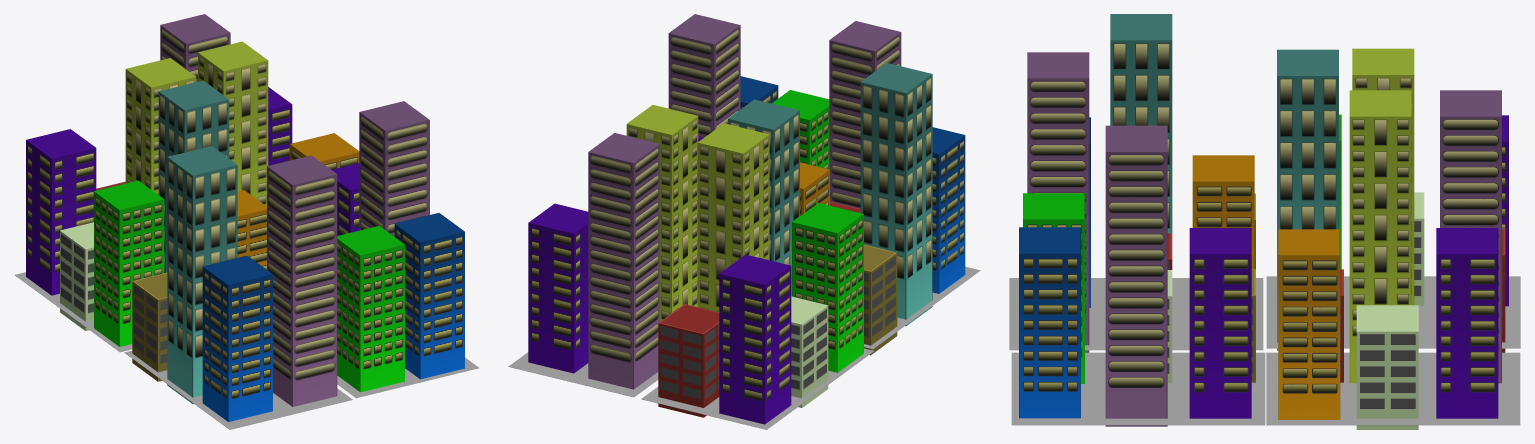
File: predio1.fbx
The picture shows the model from 3 angles, left to right: view 1: azimuth 30°, elevation 25°; view 2: azimuth 150°, elevation 25°; view 3: azimuth 270°, elevation 25°; orthographic projection. The views are drawn at different scales.
Visible parts, largest first — view 1: polySurface44, polySurface28, polySurface35, polySurface31, polySurface30, polySurface37, polySurface36, polySurface51, polySurface49, polySurface46, polySurface47, polySurface53 (+9 smaller); view 2: polySurface48, polySurface28, polySurface36, polySurface47, polySurface33, polySurface37, polySurface49, polySurface44, polySurface51, polySurface54, polySurface46, polySurface35 (+8 smaller); view 3: polySurface51, polySurface49, polySurface32, polySurface7, polySurface33, polySurface30, polySurface46, polySurface44, polySurface48, polySurface28, polySurface50, polySurface8 (+10 smaller).
Boxes of the visible parts, box(x1,y1,x2,y2) form: polySurface44: box(267, 155, 337, 406); polySurface28: box(167, 146, 237, 404); polySurface35: box(202, 255, 272, 421); polySurface31: box(337, 226, 404, 392); polySurface30: box(394, 213, 464, 379); polySurface37: box(94, 180, 164, 346); polySurface36: box(26, 129, 96, 295); polySurface51: box(359, 101, 429, 236); polySurface49: box(198, 41, 268, 206); polySurface46: box(158, 80, 229, 272); polySurface47: box(125, 58, 196, 194); polySurface53: box(132, 272, 167, 381); polySurface48: box(588, 133, 659, 389); polySurface28: box(860, 63, 932, 326); polySurface36: box(719, 254, 791, 424); polySurface47: box(697, 123, 769, 312); polySurface33: box(528, 203, 588, 373); polySurface37: box(792, 203, 863, 372); polySurface49: box(626, 105, 698, 321); polySurface44: box(829, 21, 901, 208); polySurface51: box(668, 14, 740, 137); polySurface54: box(658, 304, 719, 417); polySurface46: box(728, 99, 799, 296); polySurface35: box(932, 127, 965, 293); polySurface51: box(1105, 125, 1167, 426); polySurface49: box(1349, 90, 1411, 383); polySurface32: box(1278, 229, 1340, 419); polySurface7: box(1189, 228, 1251, 418); polySurface33: box(1436, 228, 1498, 418); polySurface30: box(1019, 227, 1080, 418); polySurface46: box(1277, 49, 1338, 350); polySurface44: box(1027, 52, 1089, 352); polySurface48: box(1440, 90, 1501, 383); polySurface28: box(1110, 14, 1172, 232); polySurface50: box(1356, 305, 1418, 429); polySurface8: box(1011, 352, 1265, 425).
Bounding box in the file's own units: 8.37 × 7.3 × 12.16.
